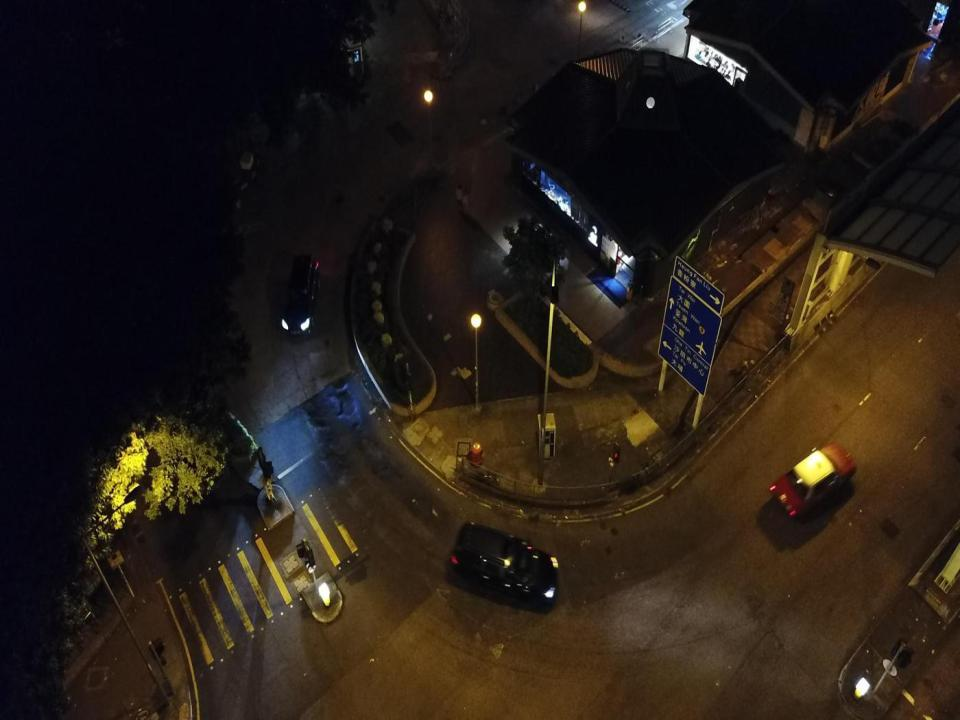car: (451, 521, 560, 604), (769, 440, 859, 517), (281, 254, 322, 338)
